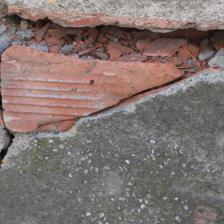Crack: (57, 94, 124, 129), (129, 190, 188, 224)
